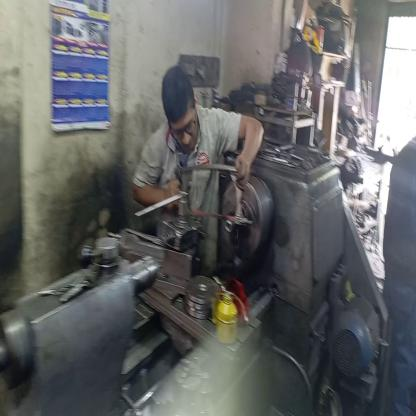lentes: (166, 116, 198, 140)
